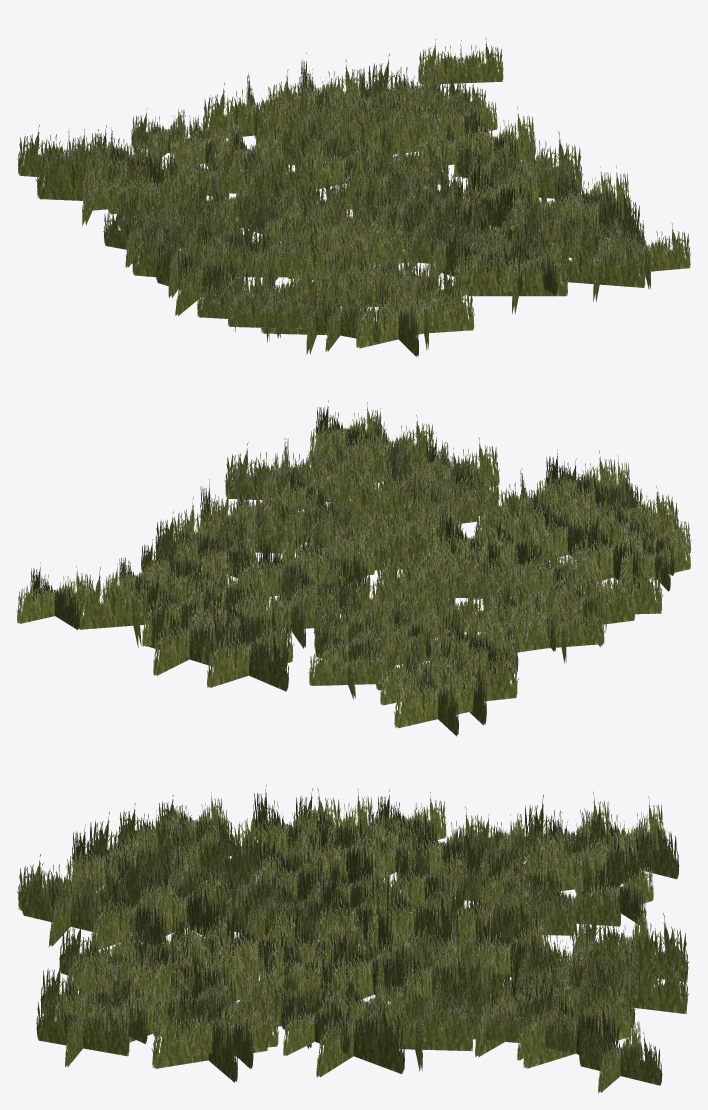
File: grassb.FBX
The picture shows the model from 3 angles, top to bottom: view 1: azimuth 30°, elevation 25°; view 2: azimuth 150°, elevation 25°; view 3: azimuth 270°, elevation 25°; orthographic projection. The views are drawn at different scales.
Visible parts, largest first — view 1: grass; view 2: grass; view 3: grass.
Part boxes in pixels (bbox=[...]): grass: bbox=[17, 37, 691, 356]; grass: bbox=[16, 400, 691, 736]; grass: bbox=[16, 784, 689, 1093].
Size of the model in its own units: 1260 by 1356 by 182.
